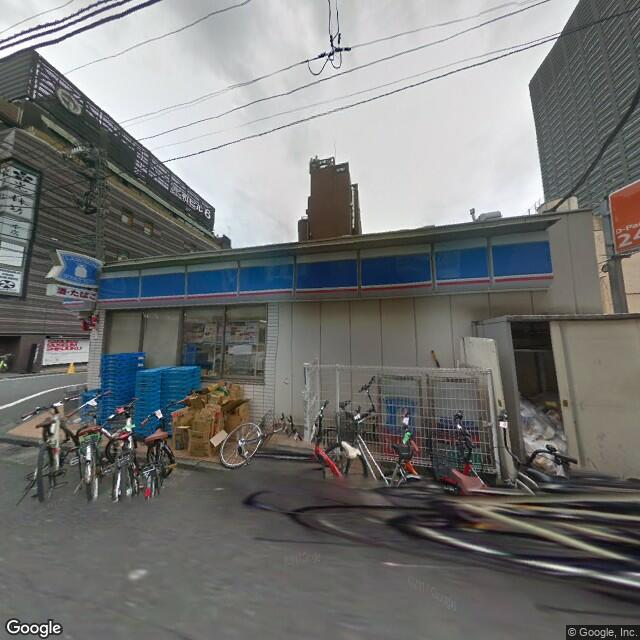lawson: (101, 223, 556, 312), (51, 245, 101, 295)
